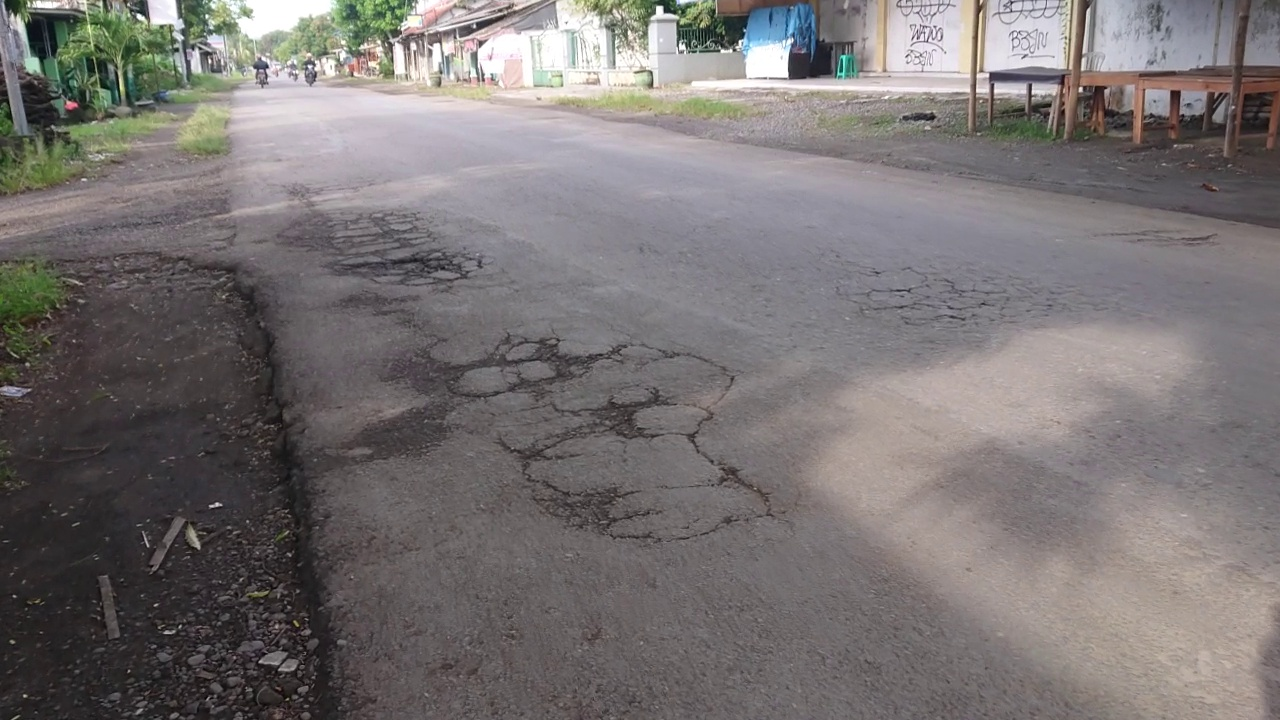Retak: (422, 316, 759, 550), (309, 191, 481, 301)
